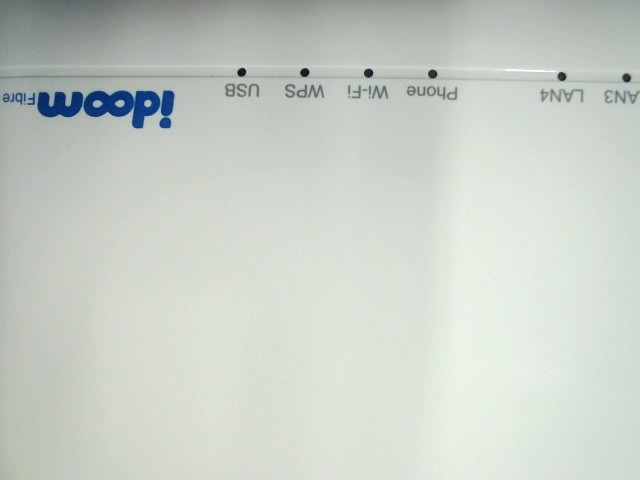BB_idoom: (3, 74, 182, 129)
